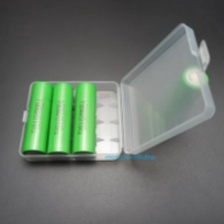battery: (152, 66, 211, 141), (19, 80, 55, 160), (45, 80, 75, 161), (70, 80, 98, 161)
